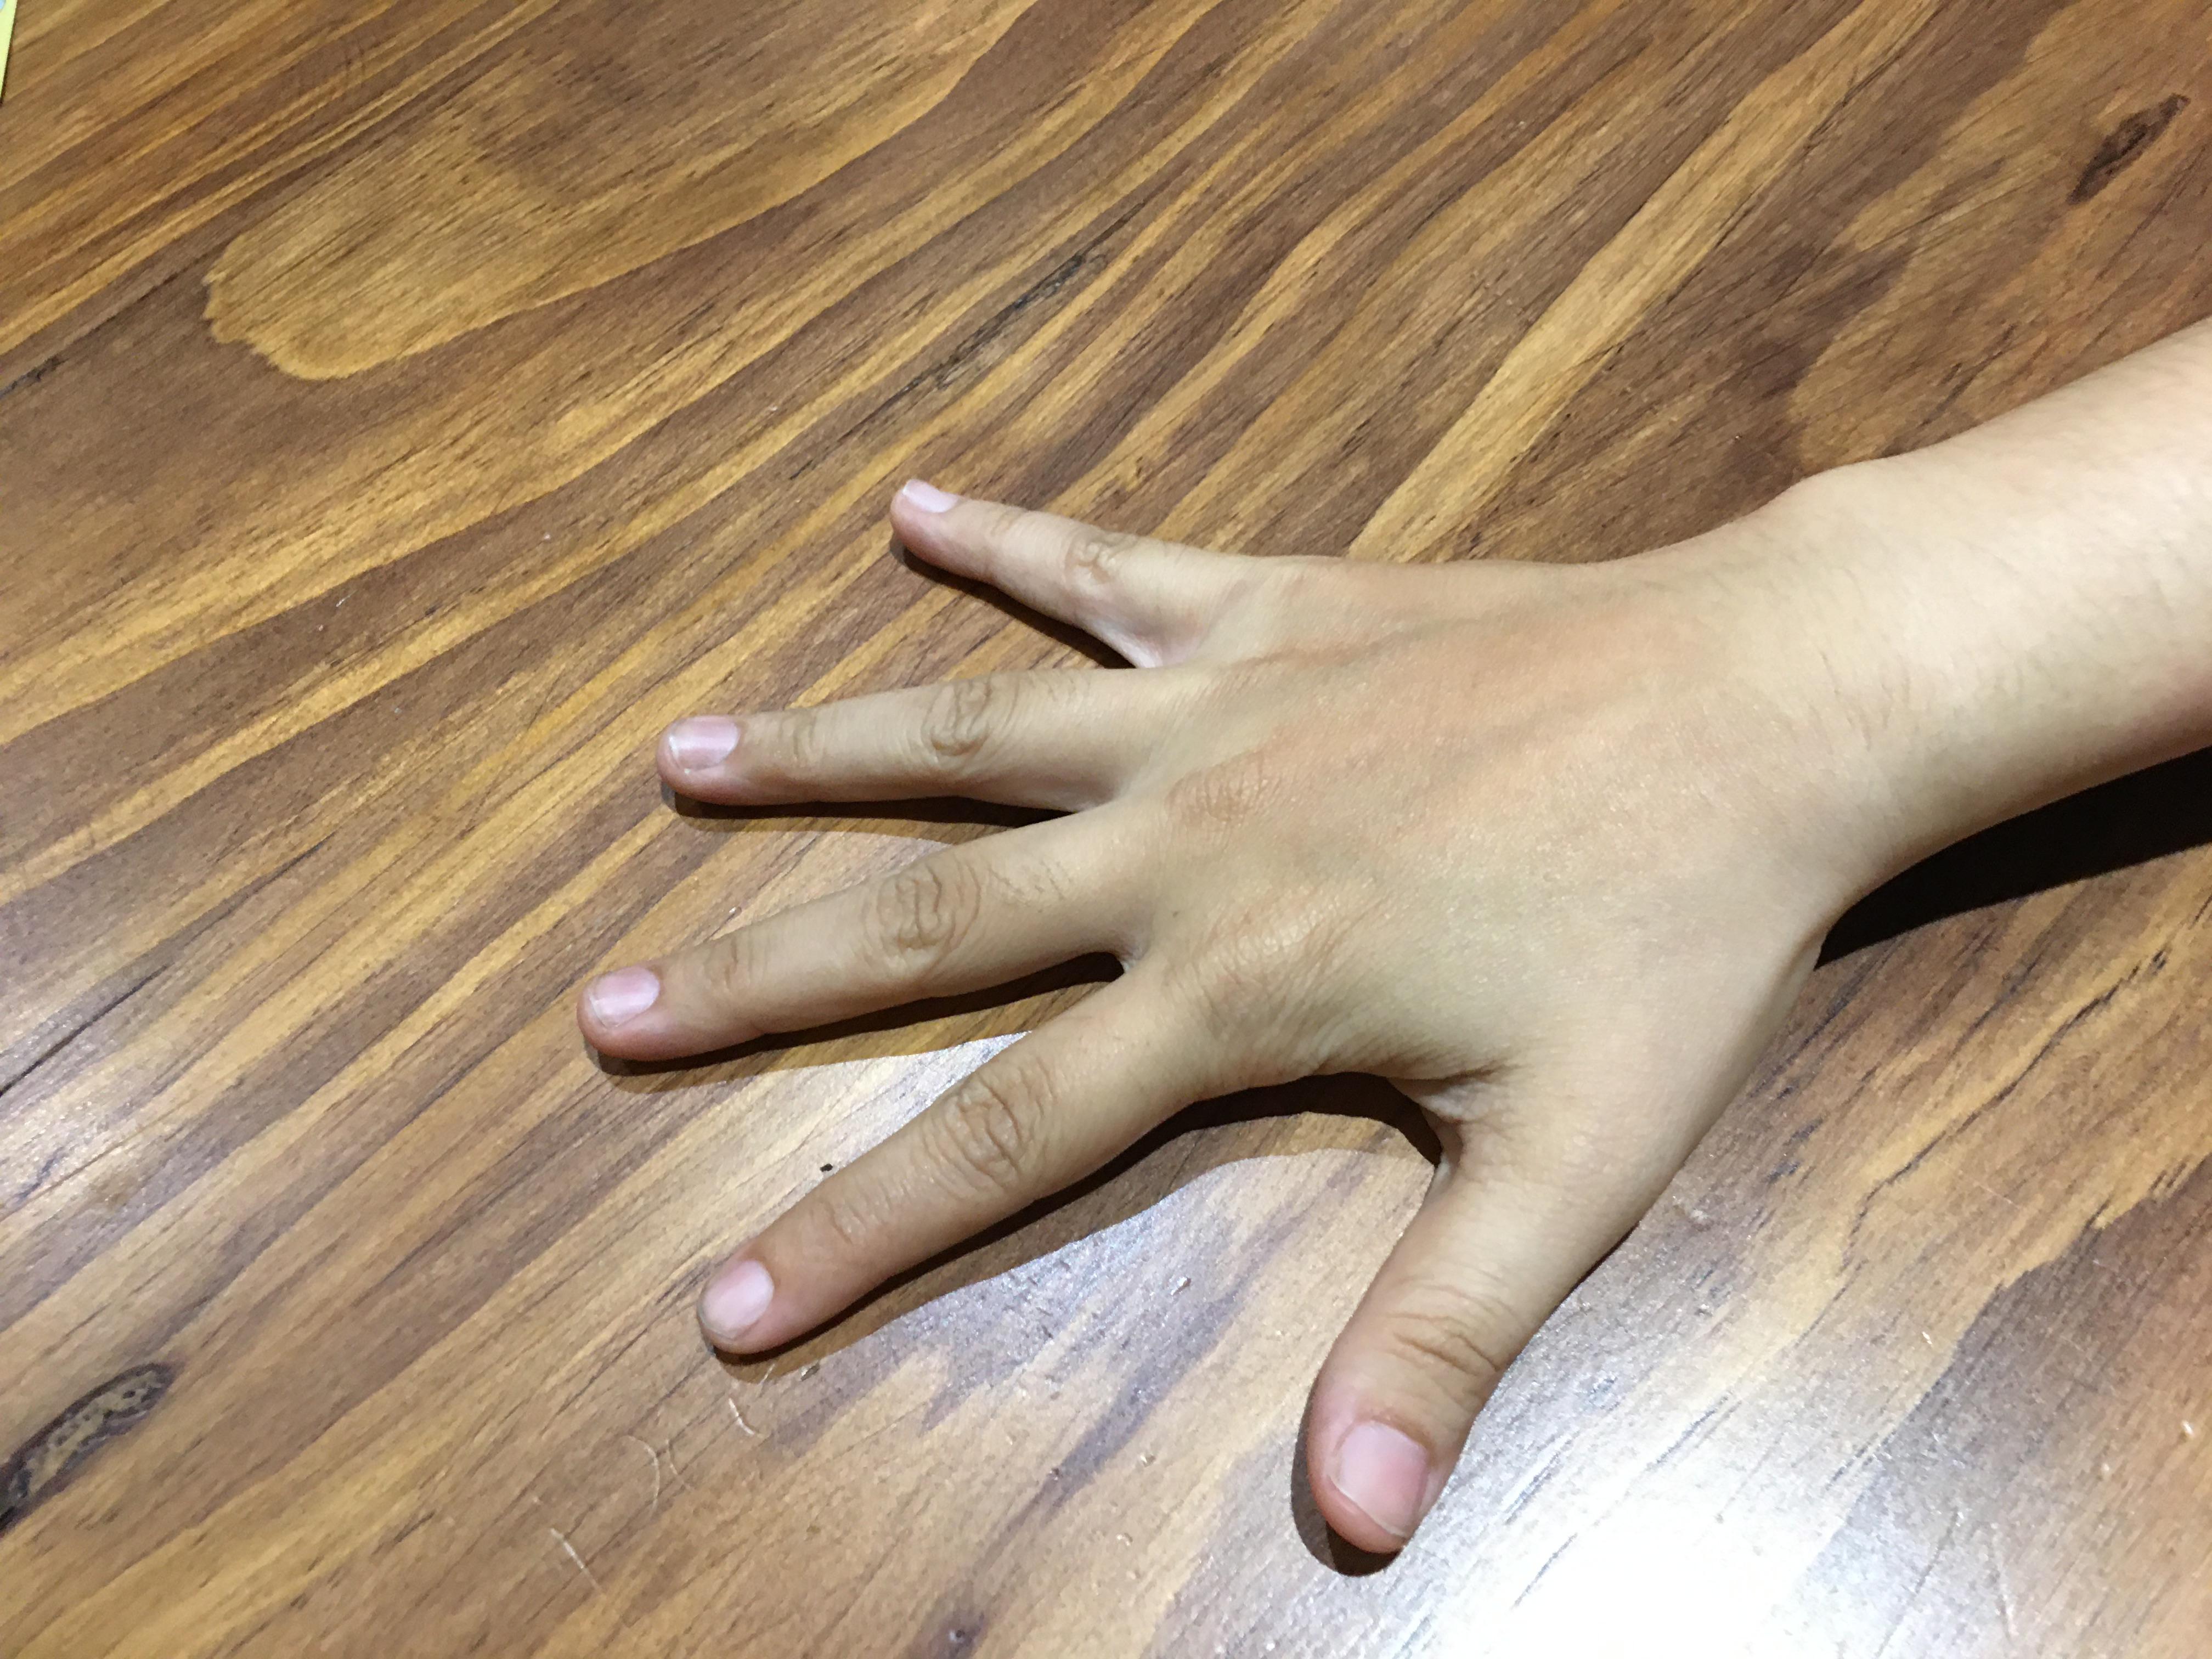nails: (1315, 1394, 1435, 1561), (693, 1243, 782, 1352), (582, 936, 672, 1037), (658, 706, 751, 781), (894, 465, 963, 532)
